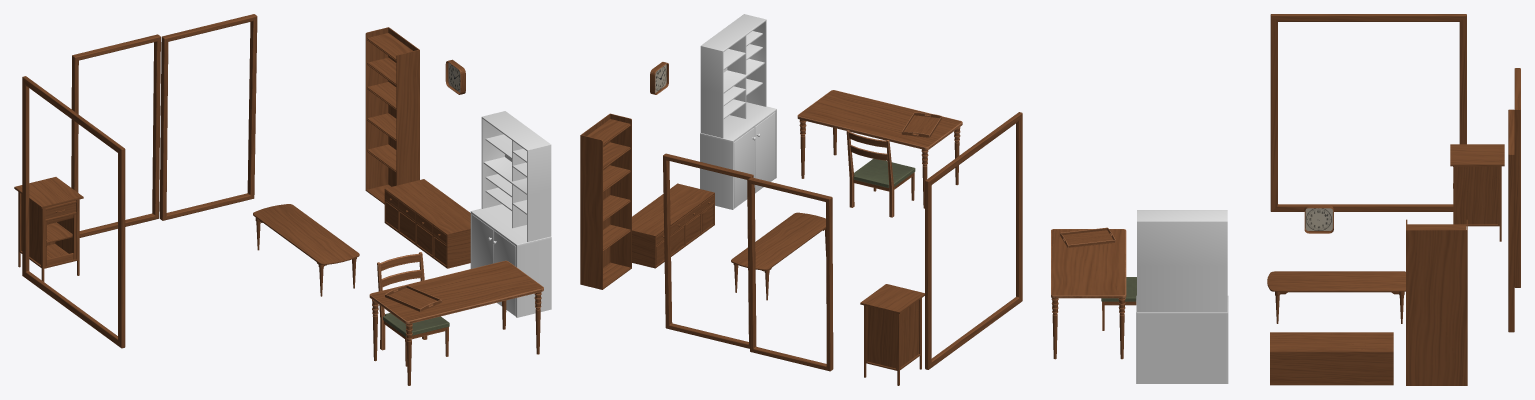
Rendered from M_Furniture_All.fbx.
3 renders of one model, left to right at view 1: azimuth 30°, elevation 25°; view 2: azimuth 150°, elevation 25°; view 3: azimuth 270°, elevation 25°, orthographic. The views are drawn at different scales.
Visible parts, largest first — view 1: M_Furniture_005, M_Furniture_001, M_Furniture_009, M_Furniture_002, M_Furniture_004, M_Furniture_007, M_Furniture_006, M_Furniture_003, M_Furniture_008, M_Furniture_010; view 2: M_Furniture_001, M_Furniture_005, M_Furniture_009, M_Furniture_002, M_Furniture_007, M_Furniture_004, M_Furniture_006, M_Furniture_003, M_Furniture_008, M_Furniture_010; view 3: M_Furniture_001, M_Furniture_009, M_Furniture_005, M_Furniture_004, M_Furniture_002, M_Furniture_007, M_Furniture_006, M_Furniture_010, M_Furniture_008, M_Furniture_003.
Part boxes in pixels (x1,y1,x2,y2): M_Furniture_005: (22, 14, 257, 348); M_Furniture_001: (470, 111, 551, 317); M_Furniture_009: (365, 27, 419, 204); M_Furniture_002: (369, 260, 543, 385); M_Furniture_004: (384, 179, 470, 268); M_Furniture_007: (14, 177, 83, 281); M_Furniture_006: (253, 204, 359, 296); M_Furniture_003: (377, 252, 449, 366); M_Furniture_008: (385, 285, 441, 311); M_Furniture_010: (445, 59, 465, 94); M_Furniture_001: (700, 14, 776, 209); M_Furniture_005: (663, 112, 1022, 371); M_Furniture_009: (580, 113, 631, 289); M_Furniture_002: (797, 90, 962, 208); M_Furniture_007: (860, 284, 924, 385); M_Furniture_004: (632, 183, 714, 268); M_Furniture_006: (731, 212, 826, 300); M_Furniture_003: (846, 130, 915, 217); M_Furniture_008: (901, 112, 941, 137); M_Furniture_010: (650, 62, 668, 94); M_Furniture_001: (1136, 210, 1228, 383); M_Furniture_009: (1406, 219, 1467, 385); M_Furniture_005: (1270, 14, 1520, 332); M_Furniture_004: (1270, 332, 1393, 385); M_Furniture_002: (1051, 229, 1126, 359); M_Furniture_007: (1450, 144, 1504, 241); M_Furniture_006: (1267, 271, 1405, 323); M_Furniture_010: (1304, 205, 1333, 233); M_Furniture_008: (1060, 227, 1115, 247); M_Furniture_003: (1101, 277, 1136, 330).
Size of the model in its own units: 629 by 338 by 706.
